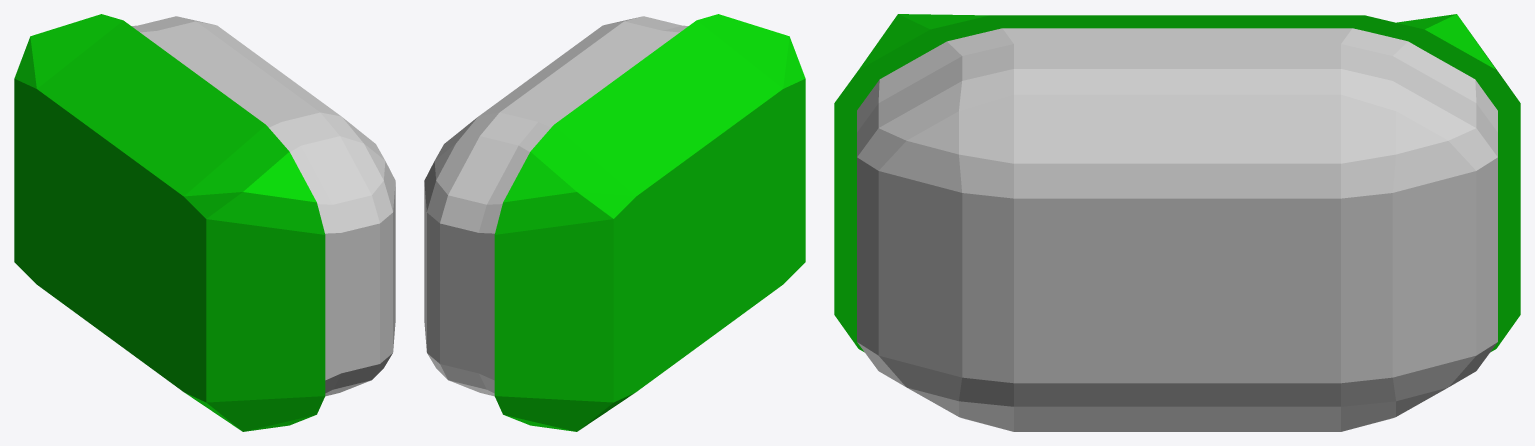
File: ulFanariInhous.fbx
3 views of the same model, side by side, from view 1: azimuth 30°, elevation 25°; view 2: azimuth 150°, elevation 25°; view 3: azimuth 270°, elevation 25° (orthographic). The views are drawn at different scales.
Parts seen in each view (by area): view 1: Cube.001, Cube; view 2: Cube.001, Cube; view 3: Cube, Cube.001.
Boxes of the visible parts, bbox=[...] form: Cube.001: bbox=[14, 14, 325, 431]; Cube: bbox=[131, 16, 395, 396]; Cube.001: bbox=[494, 14, 805, 431]; Cube: bbox=[424, 16, 688, 396]; Cube: bbox=[857, 28, 1497, 431]; Cube.001: bbox=[834, 14, 1520, 352].
Bounding box in the file's own units: 161 × 214 × 344.
